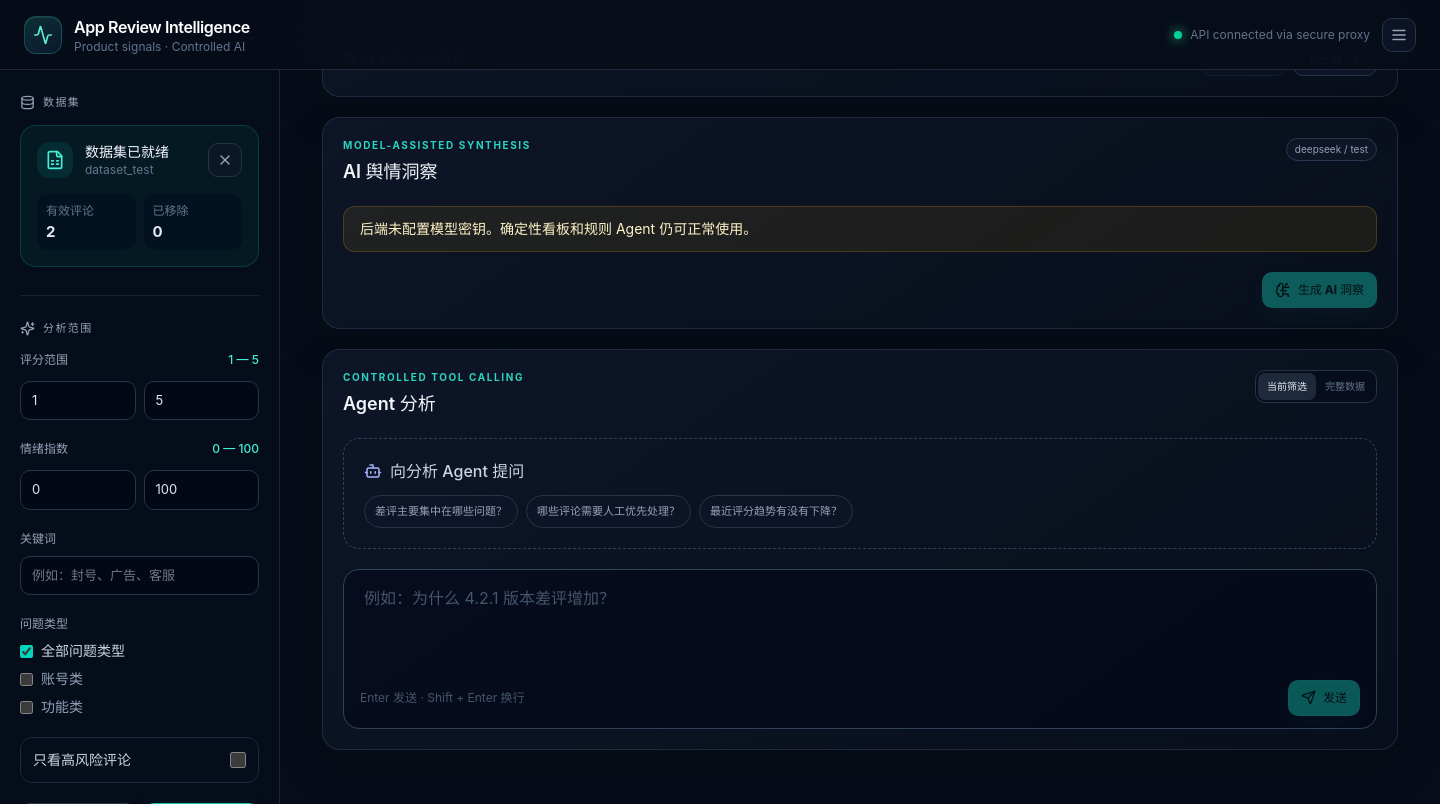
Test case: Dashboard core paths › renders Agent routing, tools, evidence, warnings and limitations
(page scrolled)
Type "分析版本问题" into the text box named "Agent 问题". click: [860, 626]
box: [352, 578, 1368, 674]
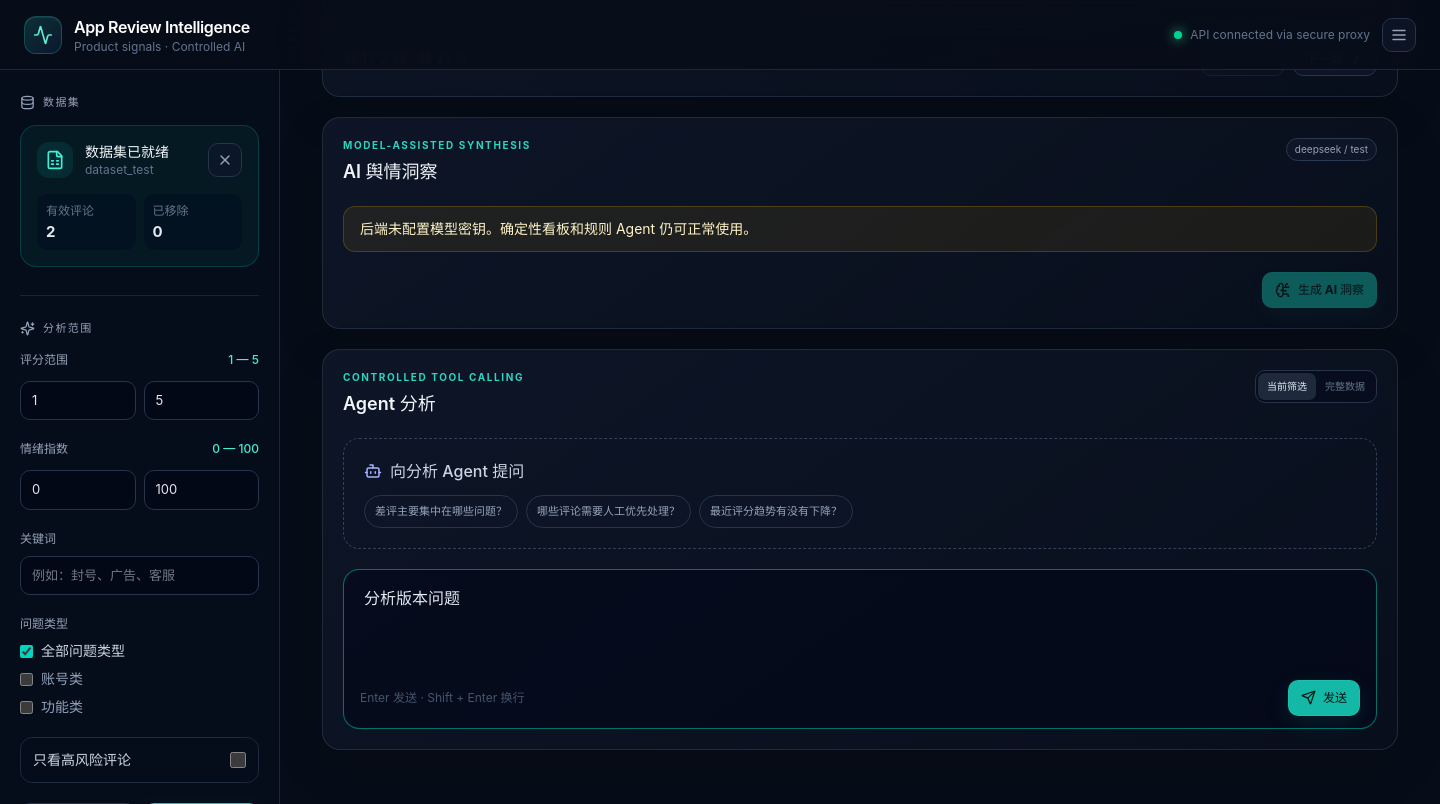
Click the button "发送". click: [1324, 698]
box: [1288, 680, 1360, 716]
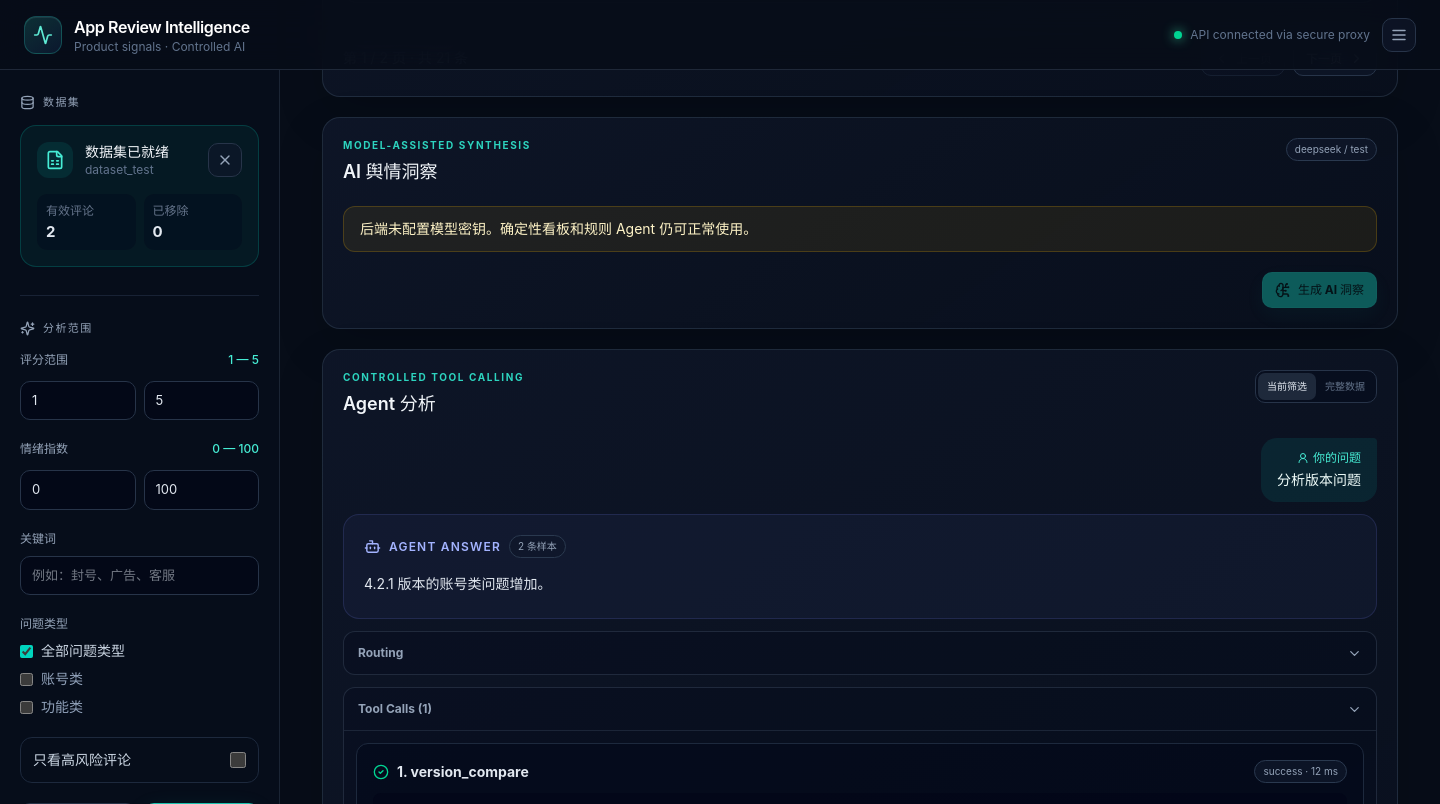
Expected: the text "1. version_compare" is shown, [397, 762, 529, 782]
